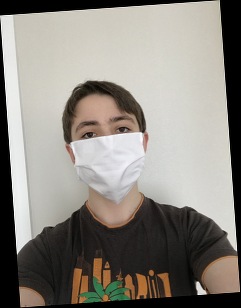with_mask: (70, 109, 147, 206)
